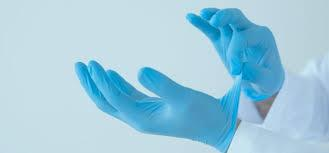Glove: (75, 61, 240, 151), (187, 8, 284, 100)
